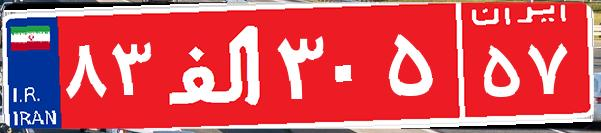0: (330, 28, 385, 110)
3: (273, 28, 330, 110), (110, 28, 158, 105)
5: (385, 28, 445, 110), (475, 38, 525, 113)
7: (525, 38, 570, 115)
8: (57, 26, 110, 107)
الف: (158, 15, 273, 115)
